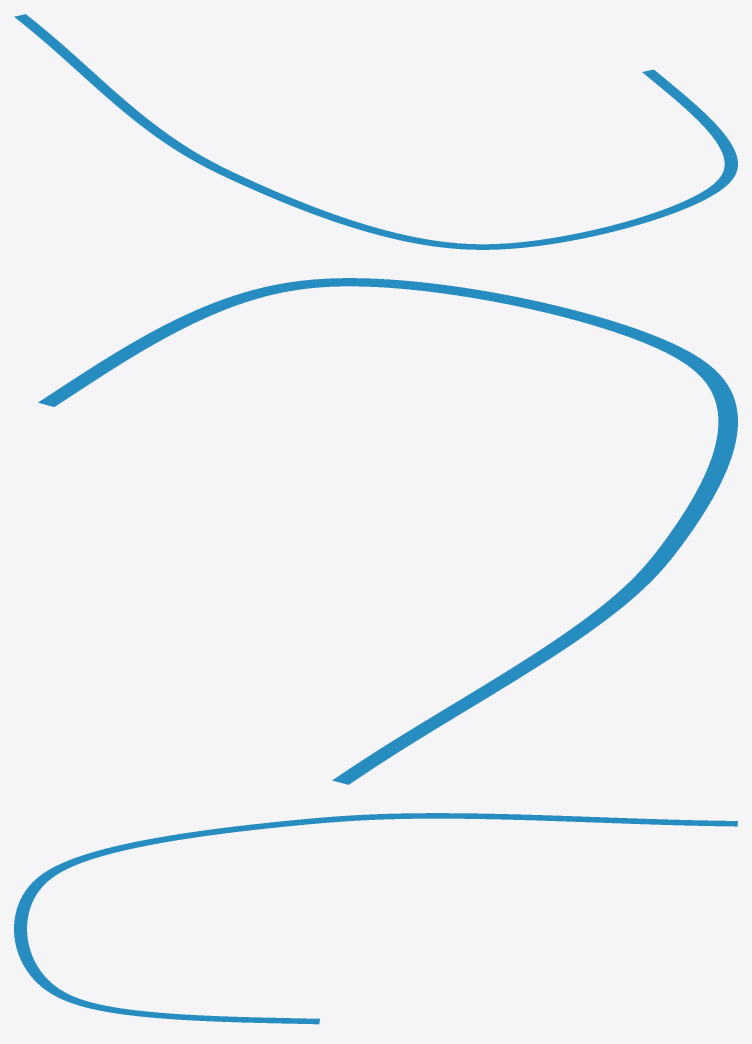
File: guide.glb
3 renders of one model, top to bottom at view 1: azimuth 30°, elevation 25°; view 2: azimuth 150°, elevation 25°; view 3: azimuth 270°, elevation 25°, orthographic. The views are drawn at different scales.
Parts seen in each view (by area): view 1: static; view 2: static; view 3: static.
Part boxes in pixels (x1,y1,x2,y2): static: (14, 14, 737, 249); static: (38, 278, 737, 784); static: (14, 813, 737, 1024).
Bounding box in the file's own units: 12.55 × 0 × 17.72.
